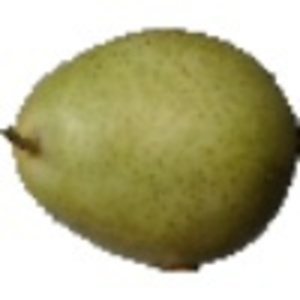pera: (1, 26, 300, 276)
